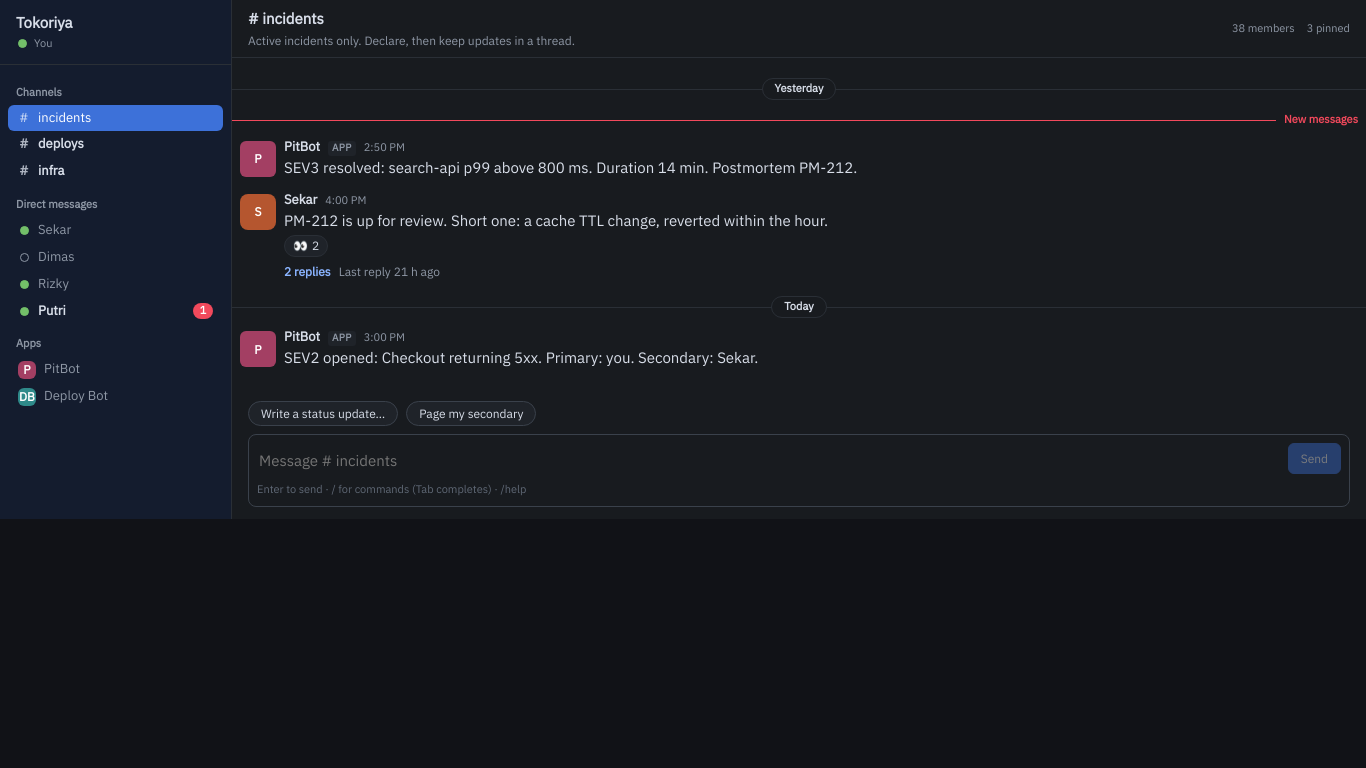
Test case: a chat you can use (M2.5 spec §7) › /status posts your words in #incidents and runs the status update
Type "/status Investigating failed payments" into the text box labelled "Message # incidents".
click(768, 461); type("/status Investigating failed payments")  # box [257, 448, 1280, 474]
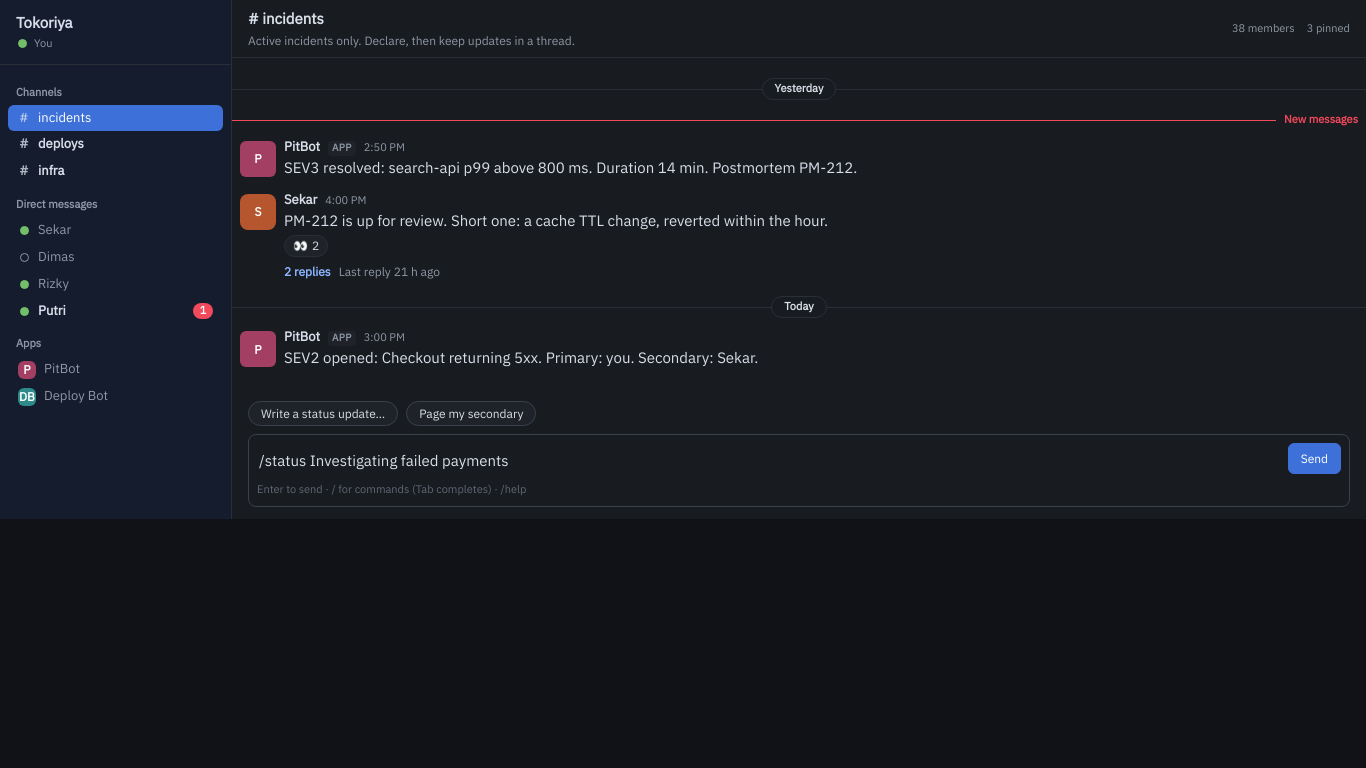
Press Enter in the text box named "Message ", box [257, 448, 1280, 474]
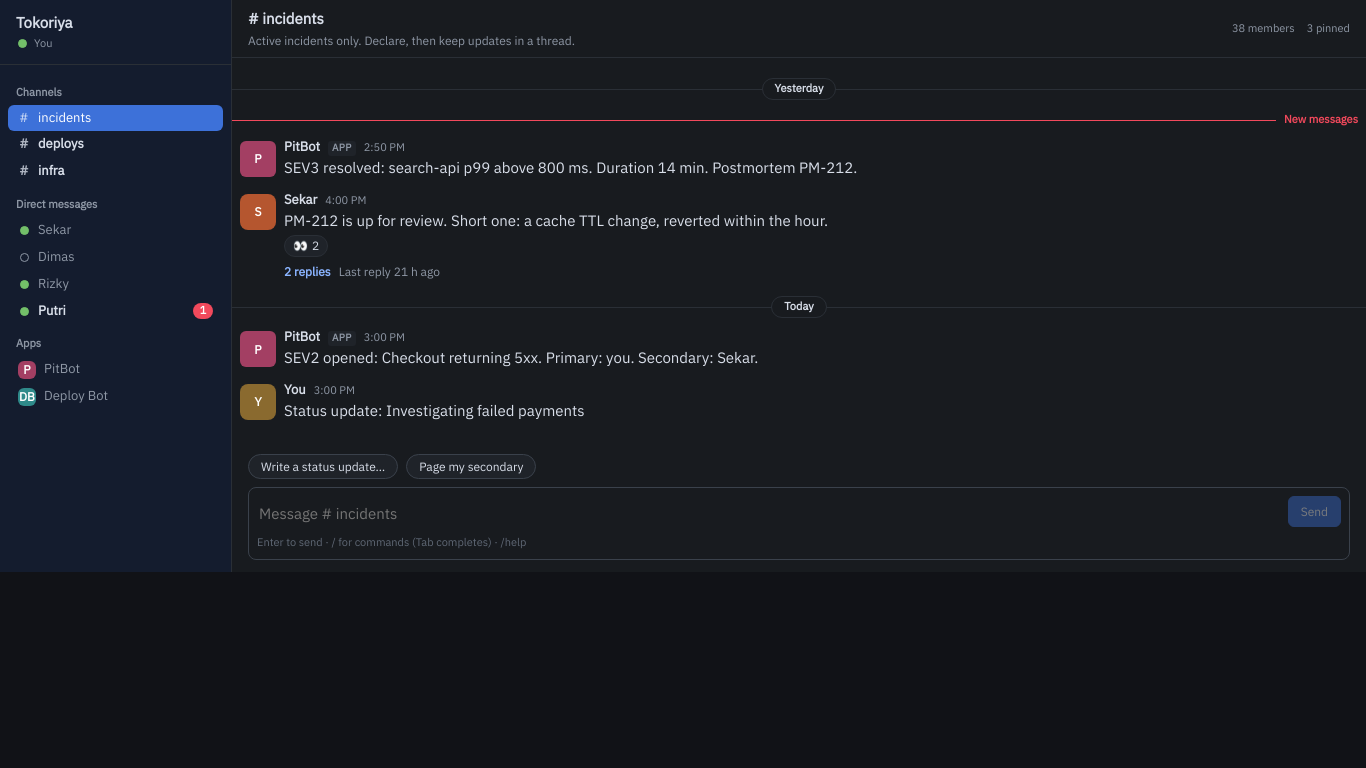
Result: the text "Status update: Investigating failed payments" is shown at [284, 401, 585, 420]
